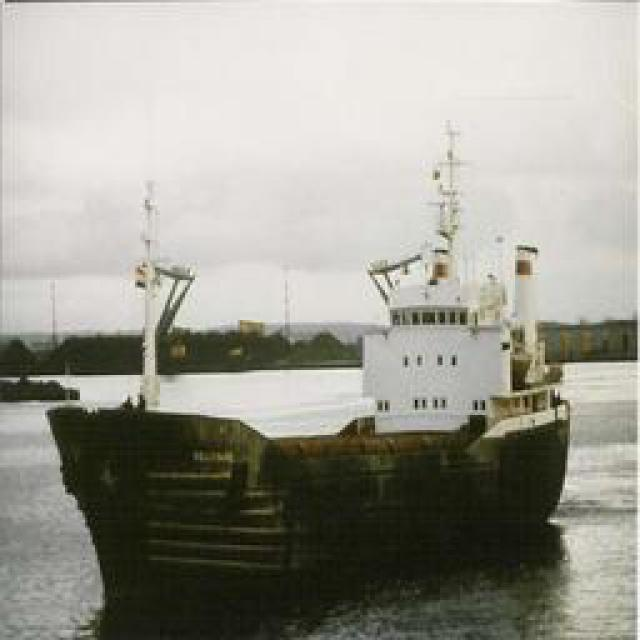Ship: (45, 108, 565, 599)
